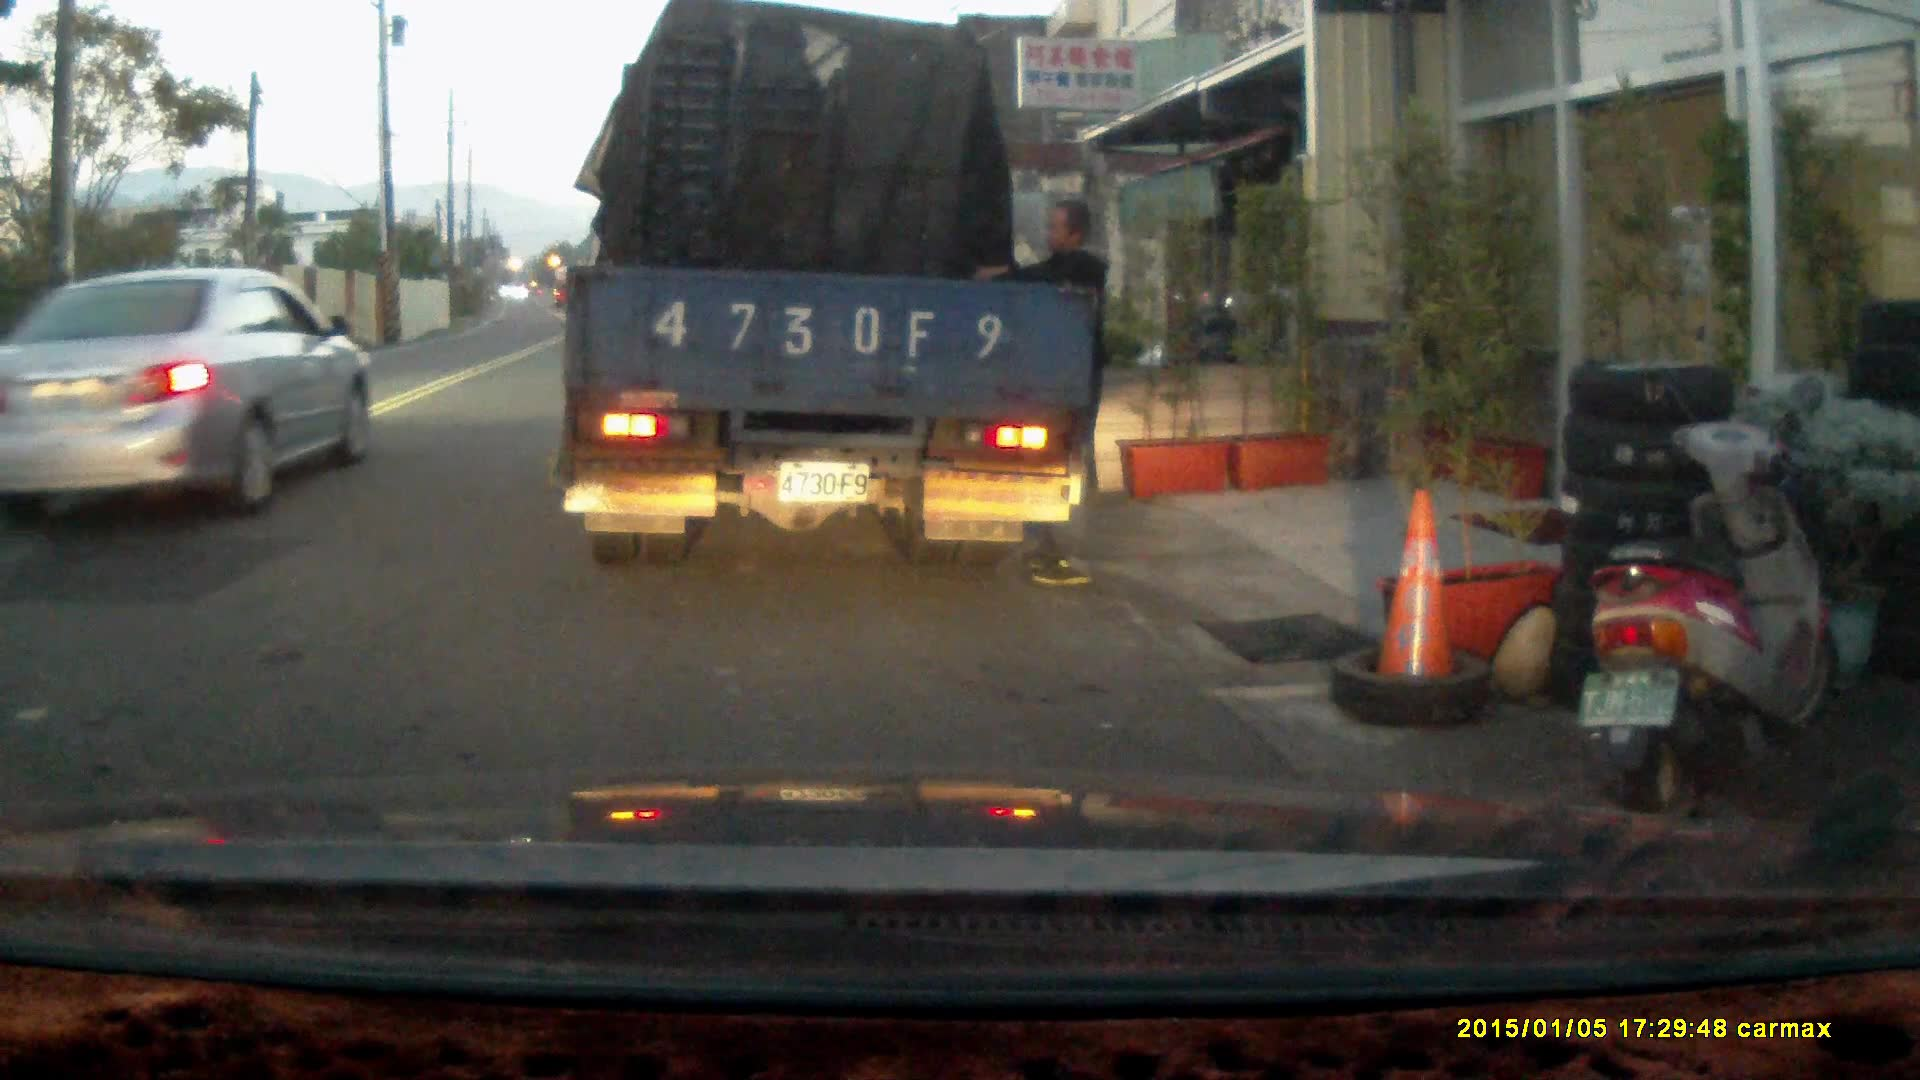pedestrian: (975, 198, 1108, 584)
vehicle: (565, 23, 1097, 572), (1, 266, 388, 526)
